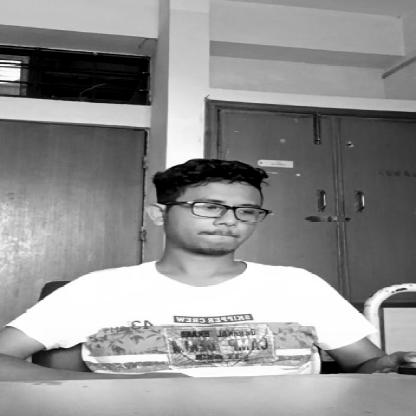Distracted: (158, 163, 268, 255)
